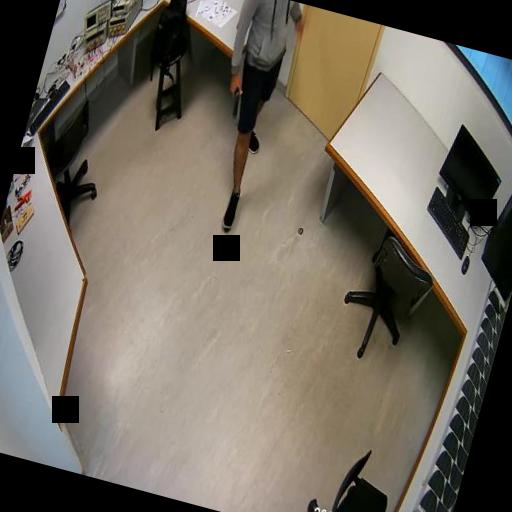Handgun: (222, 80, 244, 116)
